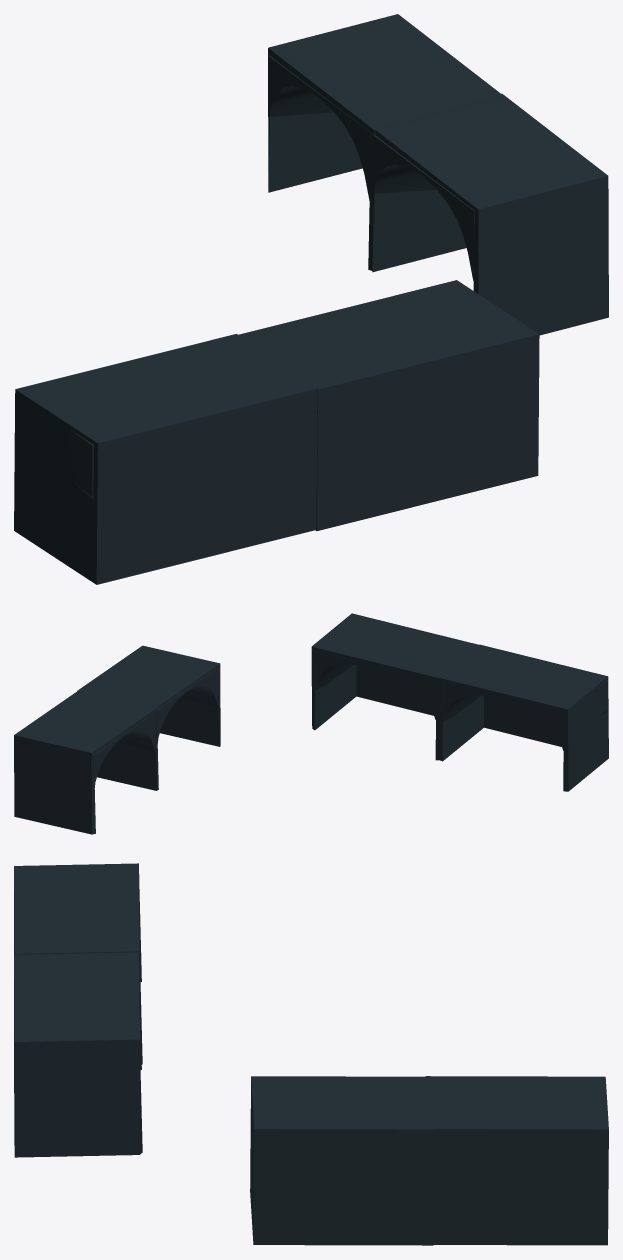
File: palco.obj
3 views of the same model, one above another, from view 1: azimuth 30°, elevation 25°; view 2: azimuth 150°, elevation 25°; view 3: azimuth 270°, elevation 25° (orthographic). The views are drawn at different scales.
Visible parts, largest first — view 1: group103_pasted__pCube34; view 2: group103_pasted__pCube34; view 3: group103_pasted__pCube34.
Boxes of the visible parts, bbox=[...] form: group103_pasted__pCube34: bbox=[14, 14, 608, 584]; group103_pasted__pCube34: bbox=[14, 613, 608, 834]; group103_pasted__pCube34: bbox=[14, 863, 608, 1245].
Bounding box in the file's own units: 76.49 × 15.66 × 71.65.
1 material, 1 textured.
